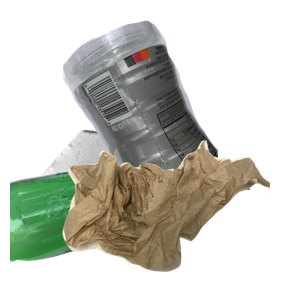glass: (10, 149, 203, 300)
paper: (10, 10, 250, 190)
plastic: (60, 18, 300, 198)
trash: (60, 138, 300, 300)
